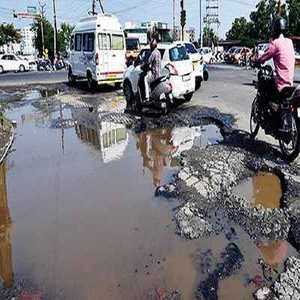pothole: (227, 166, 289, 218)
